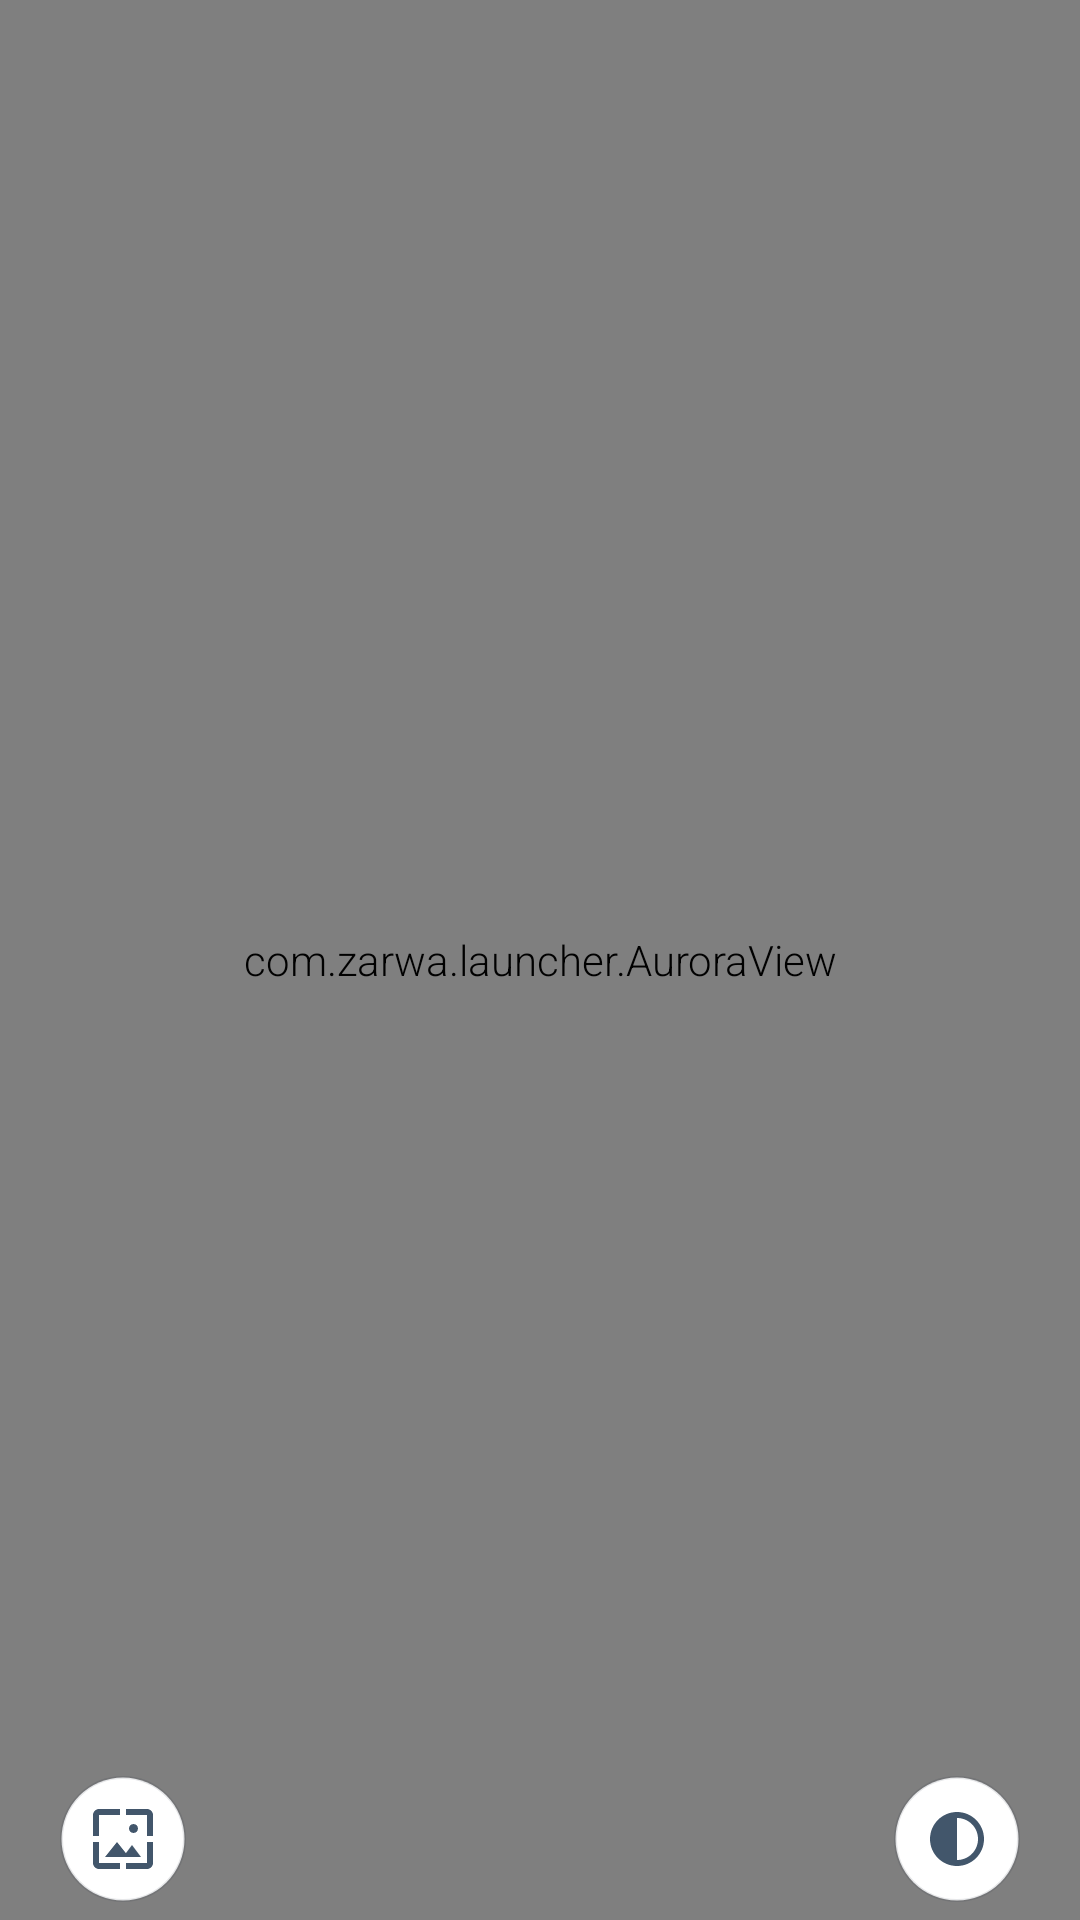

Icons on this 1080 × 1920 Android screen, each with the point to tap as (x,y):
تبديل الوضع الفاتح/الداكن: (957,1839)
